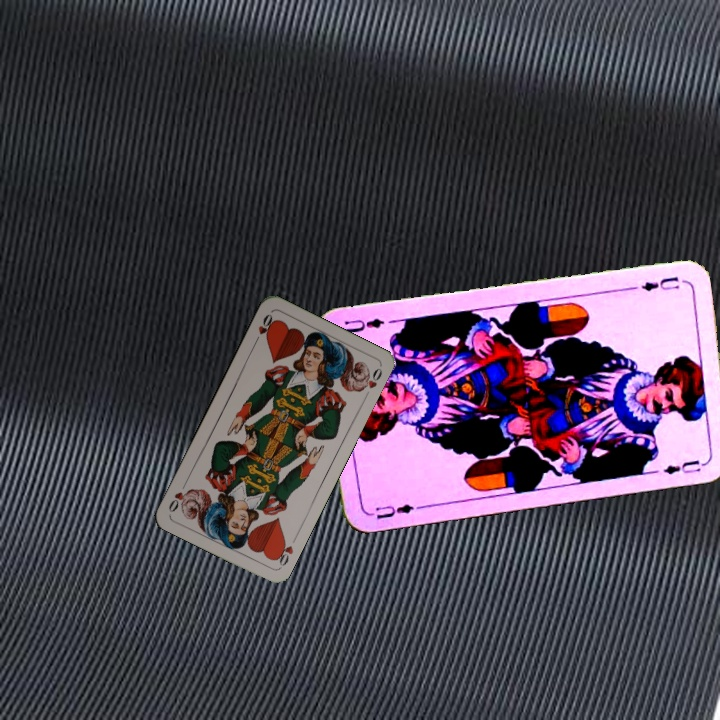EU: (365, 499, 424, 522), (637, 272, 682, 294)
HO: (271, 532, 299, 570), (250, 310, 277, 347)
